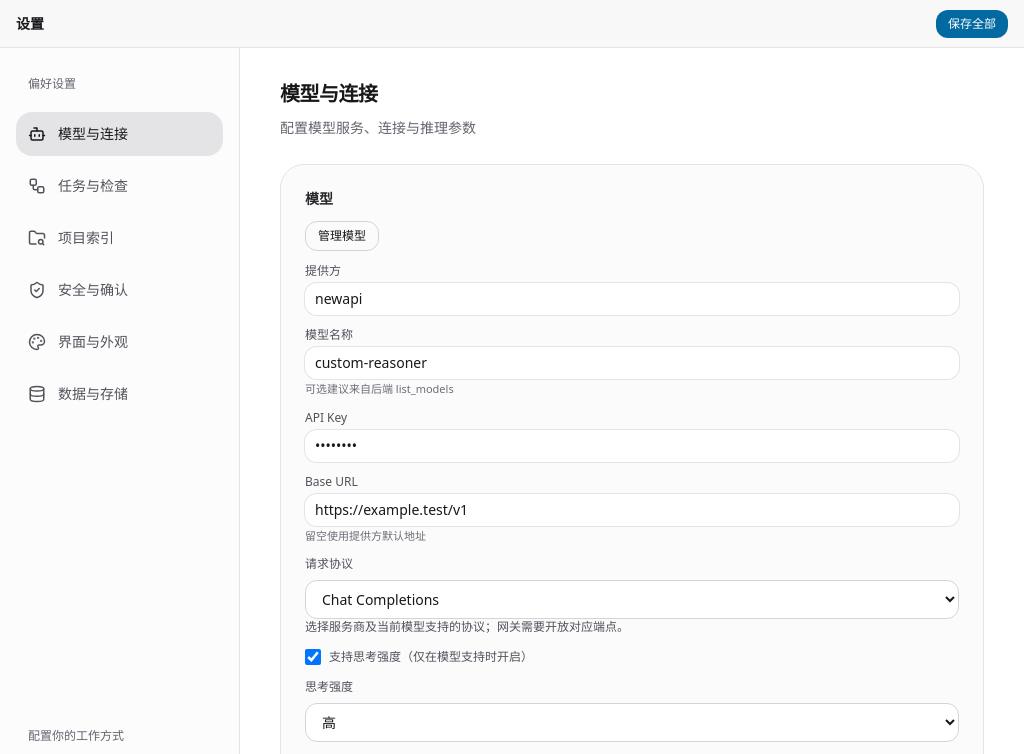
Test: model settings across both entry points › reports preference persistence failure without claiming model settings were saved
Click the button "保存全部". click: x=972, y=24
box: left=936, top=10, right=1008, bottom=38
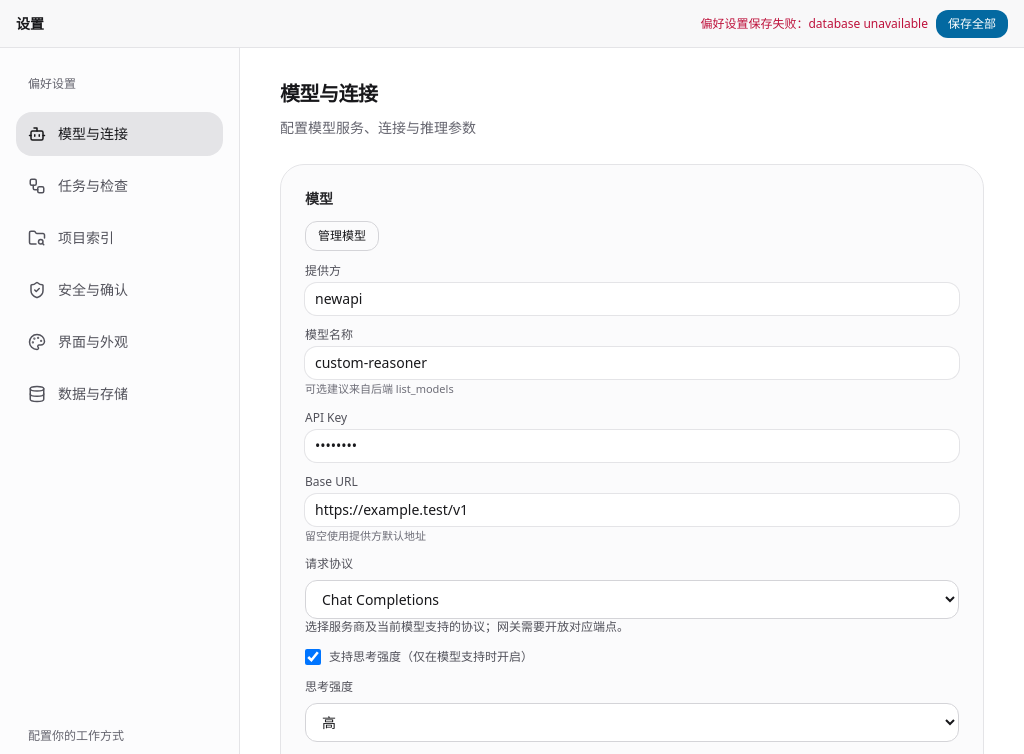
Expected: the text "偏好设置保存失败：database unavailable" is shown, left=700, top=16, right=928, bottom=32
